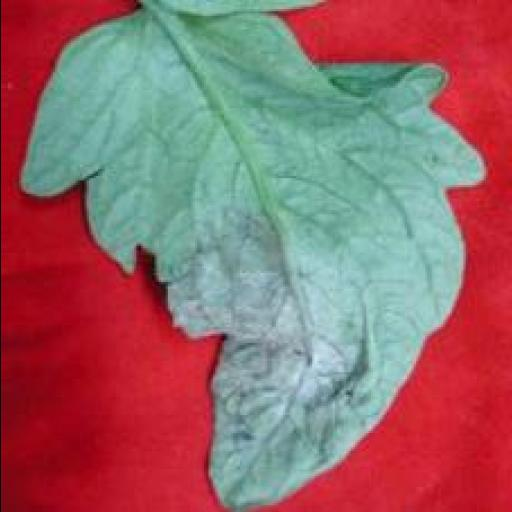Late Blight: (12, 0, 492, 510)
